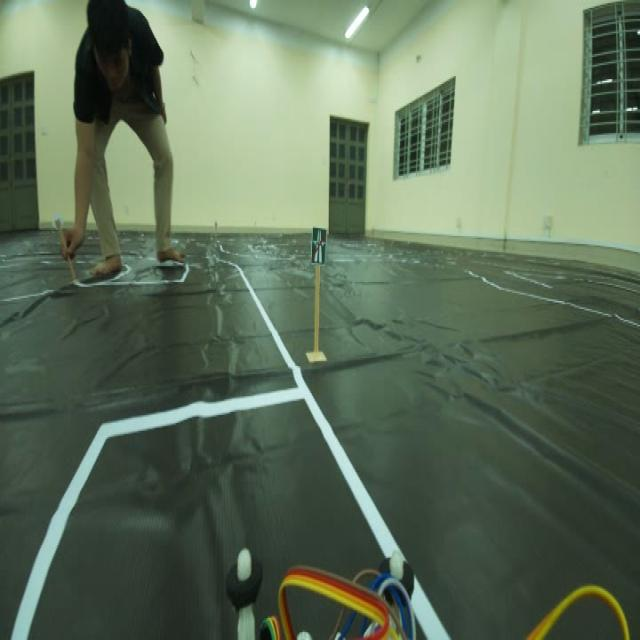highway_exit: (306, 220, 331, 276)
